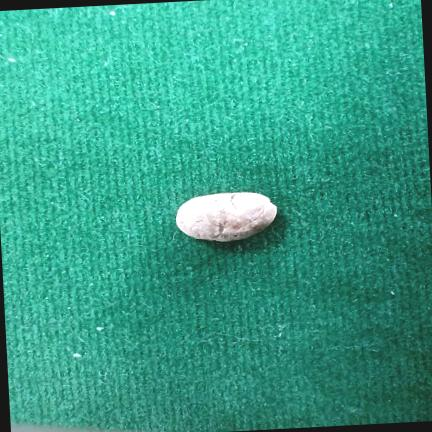shell: (177, 192, 277, 242)
